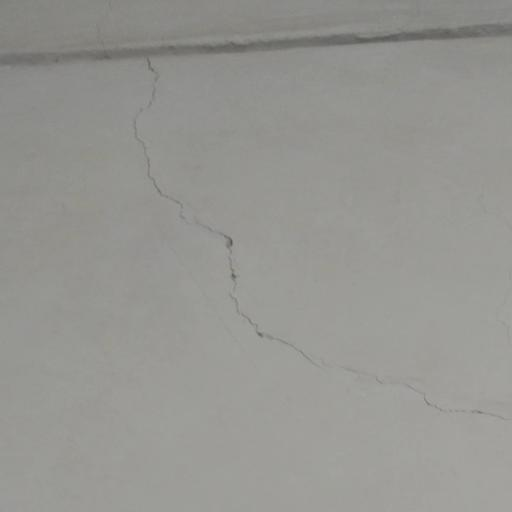minor_crack: (127, 17, 512, 435)
